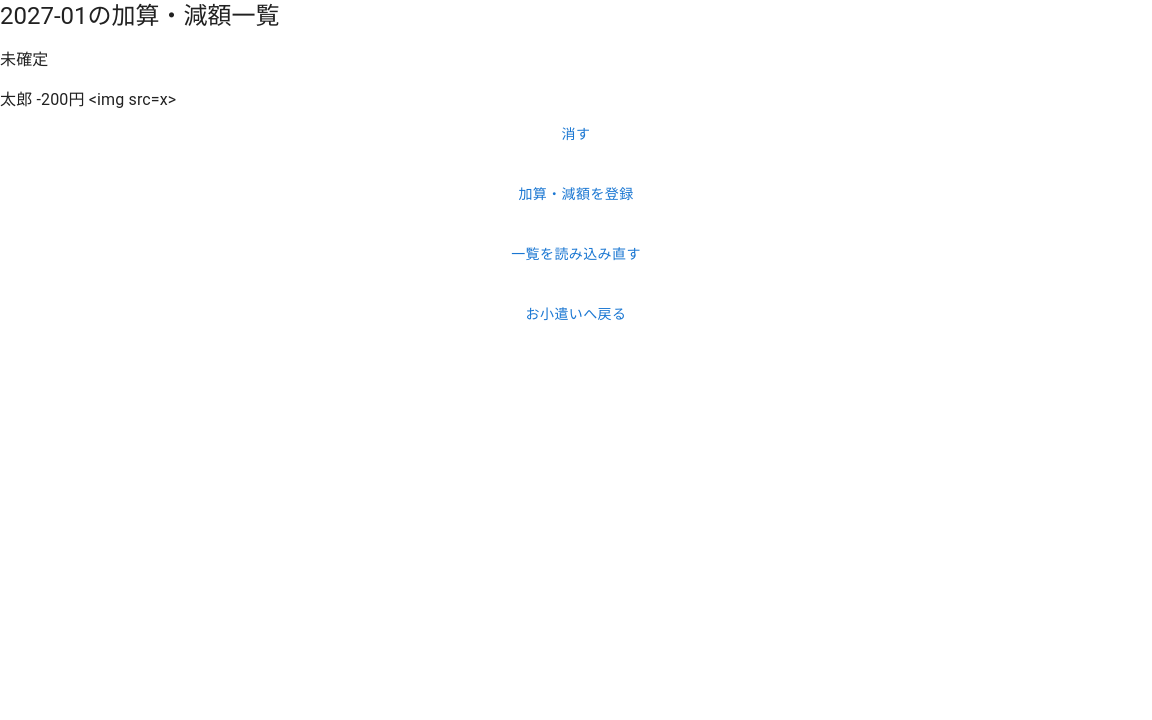
Test: 独立した訂正一覧と確認 › 確認後だけ削除し再取得する
Click the button with test id "adjustment-delete" at {"x": 576, "y": 134}, box [0, 112, 1151, 156]
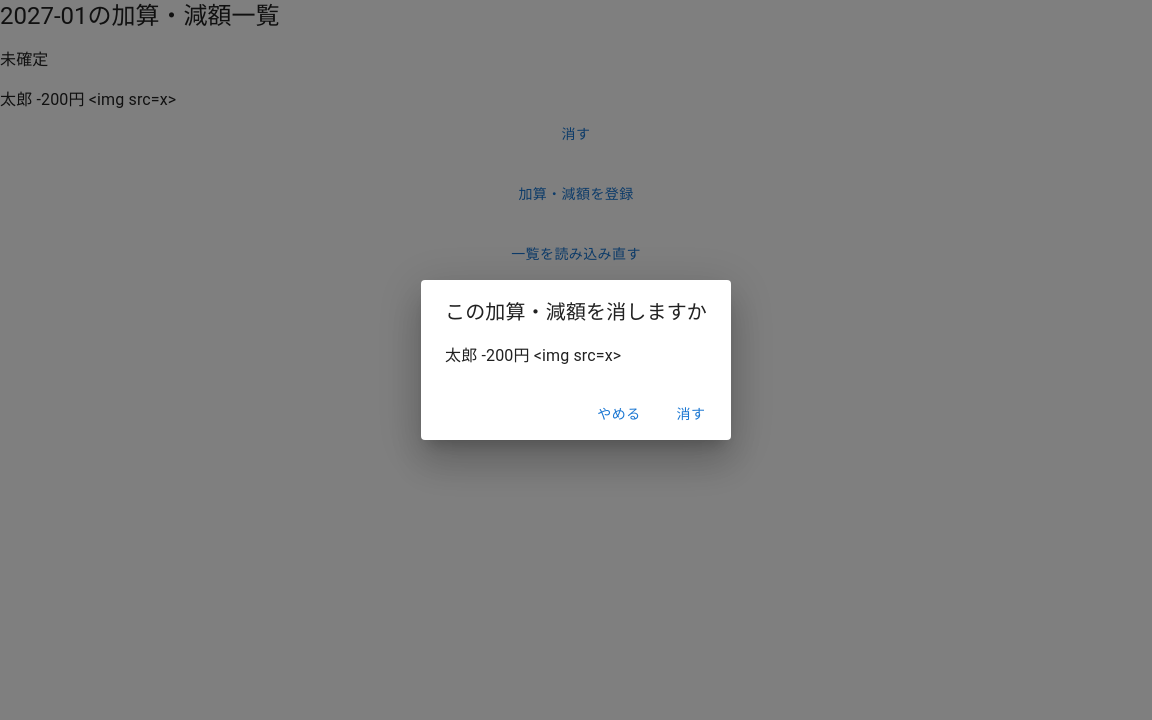
Click the button with test id "adjustment-delete-confirm" at {"x": 691, "y": 414}, box [659, 396, 723, 432]
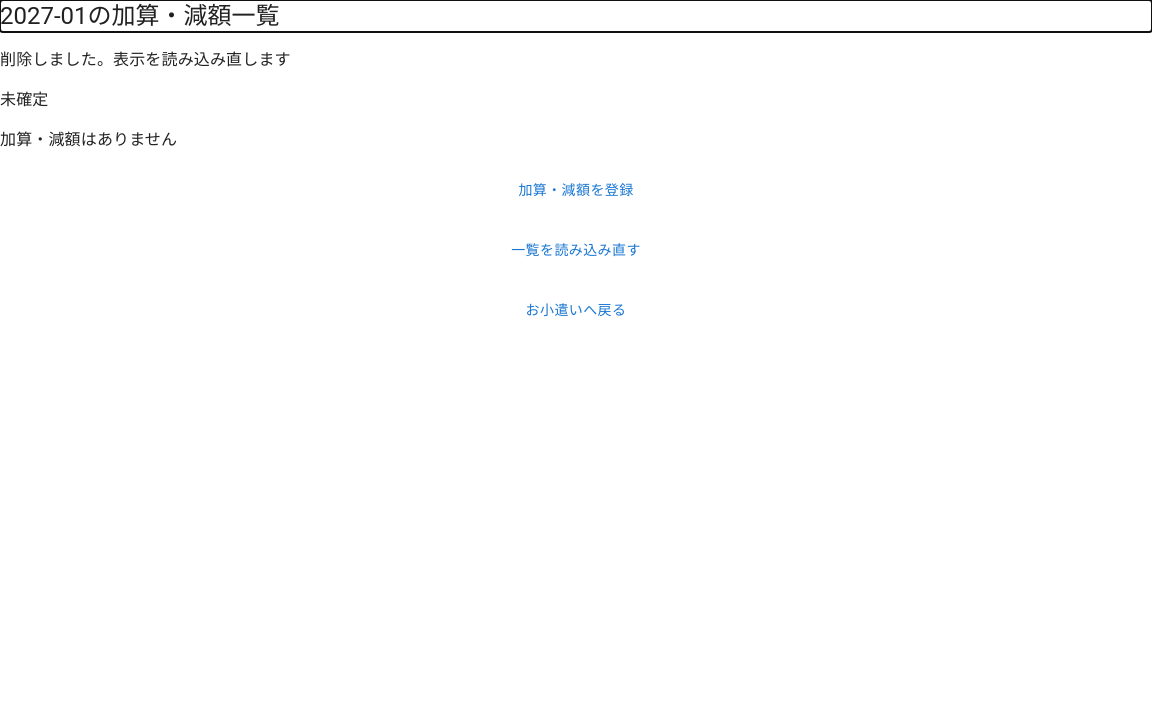
Expected: the text "加算・減額はありません" is shown, [0, 130, 177, 149]
